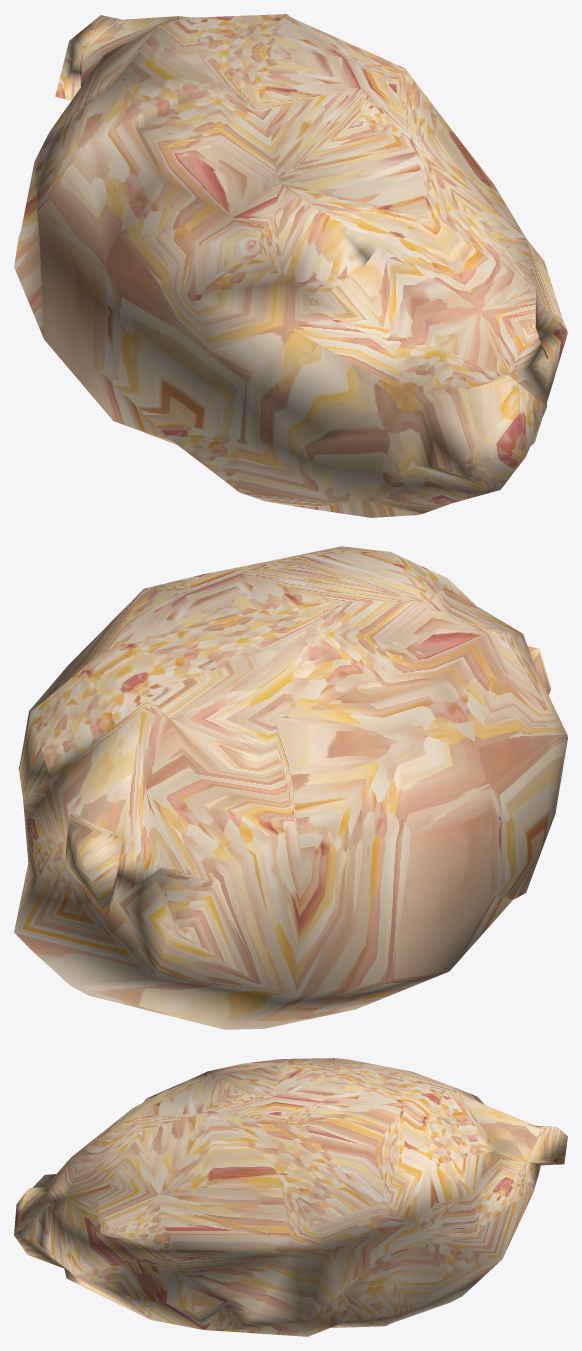
Rendered from seed-low.glb.
The picture shows the model from 3 angles, top to bottom: view 1: azimuth 30°, elevation 25°; view 2: azimuth 150°, elevation 25°; view 3: azimuth 270°, elevation 25°; orthographic projection. The views are drawn at different scales.
Size of the model in its own units: 0.977 by 0.9036 by 1.84.
1 material, 1 textured.
